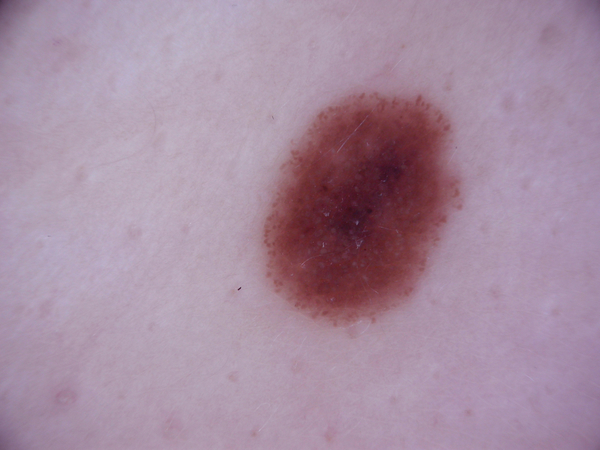Detected Lesion: (255, 83, 466, 328)
